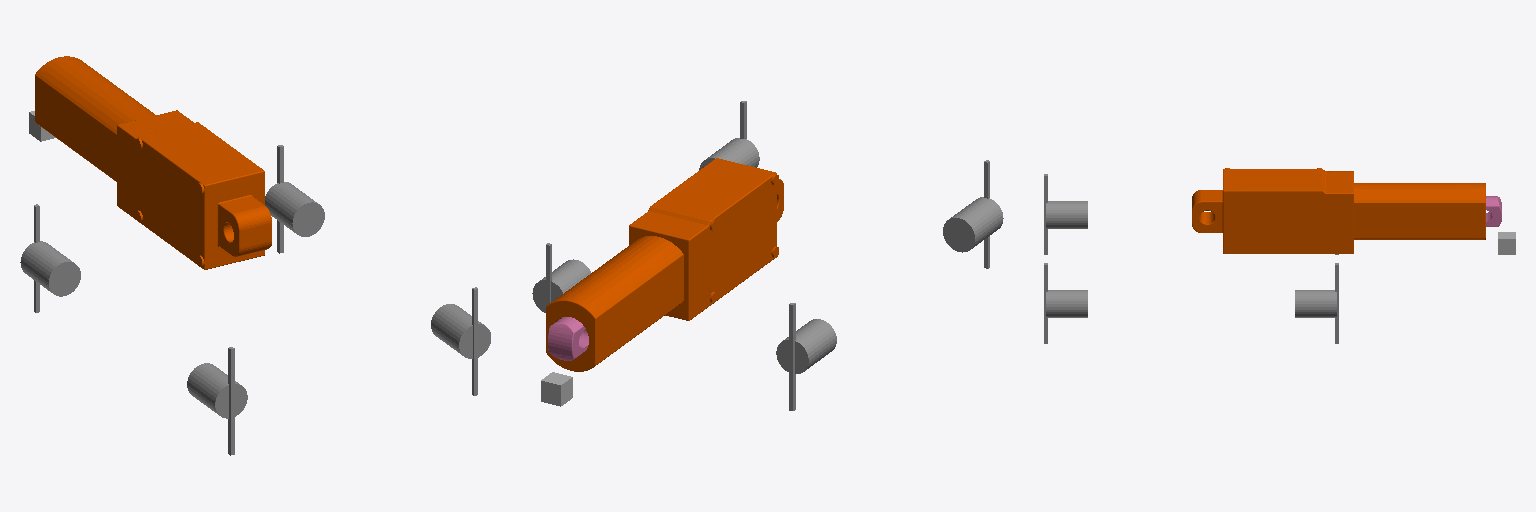
The robot description file, URDF, robot "wheeler":
<?xml version="1.0" ?>


<robot name="wheeler">

    <!-- gazebo -->

    <gazebo reference="arm">
        <material>Gazebo/Black</material>
    </gazebo>

    <gazebo reference="base">
        <material>Gazebo/Orange</material>
    </gazebo>

    <gazebo>
        <plugin name="skid_steer_drive_controller" filename="libgazebo_ros_skid_steer_drive.so">
            <updateRate>100.0</updateRate>
            <robotNamespace>/wheeler/</robotNamespace>
            
            <leftFrontJoint>chasis_fl_wheel</leftFrontJoint>
            <rightFrontJoint>chasis_fr_wheel</rightFrontJoint>
            <leftRearJoint>chasis_bl_wheel</leftRearJoint>
            <rightRearJoint>chasis_br_wheel</rightRearJoint>
            
            <wheelSeparation>0.65</wheelSeparation>
            <wheelDiameter>0.4</wheelDiameter>
            <robotBaseFrame></robotBaseFrame>
            <torque>20</torque>
            <commandTopic>cmd_vel</commandTopic>
            <odometryTopic>odom</odometryTopic>
            <broadcastTF>false</broadcastTF>
        </plugin>
    </gazebo>

    <gazebo>
        <plugin name="gazebo_ros_control" filename="libgazebo_ros_control.so">
            <!-- <robotNameSpace>/linear_actuator/</robotNameSpace> -->
            <robotSimType>gazebo_ros_control/DefaultRobotHWSim</robotSimType>
        </plugin>
    </gazebo>

    <gazebo reference="camera_base">
        <sensor type="camera" name="camera1">
          <update_rate>30.0</update_rate>
          <camera name="head">
            <horizontal_fov>1.3962634</horizontal_fov>
            <image>
              <width>800</width>
              <height>800</height>
              <format>R8G8B8</format>
            </image>
            <clip>
              <near>0.02</near>
              <far>300</far>
            </clip>
            <noise>
              <type>gaussian</type>
              <mean>0.0</mean>
              <stddev>0.007</stddev>
            </noise>
          </camera>

          <plugin name="camera_controller" filename="libgazebo_ros_camera.so">
            <alwaysOn>true</alwaysOn>
            <updateRate>0.0</updateRate>
            <cameraName>camera1</cameraName>
            <imageTopicName>image_raw</imageTopicName>
            <cameraInfoTopicName>camera_info</cameraInfoTopicName>
            <frameName>camera_base</frameName>
            <hackBaseline>0.07</hackBaseline>
            <distortionK1>0.0</distortionK1>
            <distortionK2>0.0</distortionK2>
            <distortionK3>0.0</distortionK3>
            <distortionT1>0.0</distortionT1>
            <distortionT2>0.0</distortionT2>
          </plugin>
        </sensor>
    </gazebo>

  
   

    <!-- main -->
    <link name ="chassis" >
    
        <inertial>

              <origin xyz="0 0 0.3" rpy="0 0 0" />

              <mass value="1"/>

                <inertia 
                  ixx="1.5417" 
                  ixy="0" 
                  ixz="0" 
                  iyy="3.467" 
                  iyz="0" 
                  izz="4.742"
                />
        </inertial>
        


      <visual >

          <geometry>
              
                <mesh   filename="package://robot_description/models/wheeler/STL/chassis.stl"  
                        scale="0.5 0.5 0.5"
                />
          
          </geometry>
     

      </visual>

      <collision>
    
          <geometry>
            
                <box size="1 0.65 0.2" />

          </geometry>
          
      </collision>
    </link>

    

        <link name="bl_wheel">
            <inertial>
        
                <origin xyz="0 0 0" rpy="0 0 0" />
        
                <mass value="1"/>
        
              <inertia 
                ixx="0.002526666666667" 
                ixy="0" 
                ixz="0" 
                iyy="0.002526666666667" 
                iyz="0" 
                izz="0.005"
              />
            </inertial>

            <!-- Tires -->
            <collision>
                <origin xyz="0 0.09 0" 
                        rpy="1.5707963267948966 0 0" />
                <geometry>
                    <cylinder length="0.06" radius="0.2"/>
                </geometry>
            </collision>
            
            <visual>
                <origin xyz="0 0.09 0" 
                    rpy="1.5707963267948966 0 0" />
                <geometry>
                    
                    <mesh   filename="package://robot_description/models/wheeler/STL/wheel.stl"  
                        scale="0.5 0.5 0.5"
                    />
        
                </geometry>
                <material name="Black">
                    <color rgba="0.1 0.1 0.1 1" />
                </material>
            </visual>

            <!-- Axle -->
            <collision>
                <origin xyz="0 0.03 0" 
                        rpy="1.5707963267948966 0 0" />
                <geometry>
                     <cylinder length="0.12" radius="0.04"/>
                </geometry>
            </collision>
            
            <visual>
                <origin xyz="0 0.03 0" 
                        rpy="1.5707963267948966 0 0" />
                <geometry>
                     <cylinder length="0.12" radius="0.04"/>
                </geometry>
                <material name="Grey">
                    <color rgba="0.6 0.6 0.6 1" />
                </material>
            </visual>

            <!-- Hubcap -->
            <visual>
                <origin xyz="0 0.09 0" 
                        rpy="1.5707963267948966 0 0" />
                <geometry>
                    <box size="0.01 0.25 0.01" />
                </geometry>
                <material name="Grey">
                    <color rgba="0.6 0.6 0.6 1" />
                </material>
            </visual>
        </link>


        <joint name="chasis_bl_wheel" type="continuous">
        <origin xyz="-0.3 0.325 0" 
                rpy="0 0 0" />
            <child link="bl_wheel" />
            <parent link="chassis" />
            <axis xyz="0 1 0" 
                    rpy="0 0 0" />
            <limit effort="10000" velocity="1000" />
            <joint_properties damping="1" friction="1" />
        </joint>

    

        <link name="br_wheel">
            <inertial>
        
                <origin xyz="0 0 0" rpy="0 0 0" />
        
                <mass value="1"/>
        
              <inertia 
                ixx="0.002526666666667" 
                ixy="0" 
                ixz="0" 
                iyy="0.002526666666667" 
                iyz="0" 
                izz="0.005"
              />
            </inertial>

            <!-- Tires -->
            <collision>
                <origin xyz="0 -0.09 0" 
                        rpy="1.5707963267948966 0 0" />
                <geometry>
                    <cylinder length="0.06" radius="0.2"/>
                </geometry>
            </collision>
            
            <visual>
                <origin xyz="0 -0.09 0" 
                    rpy="1.5707963267948966 0 0" />
                <geometry>
                    
                    <mesh   filename="package://robot_description/models/wheeler/STL/wheel.stl"  
                        scale="0.5 0.5 0.5"
                    />
        
                </geometry>
                <material name="Black">
                    <color rgba="0.1 0.1 0.1 1" />
                </material>
            </visual>

            <!-- Axle -->
            <collision>
                <origin xyz="0 -0.03 0" 
                        rpy="1.5707963267948966 0 0" />
                <geometry>
                     <cylinder length="0.12" radius="0.04"/>
                </geometry>
            </collision>
            
            <visual>
                <origin xyz="0 -0.03 0" 
                        rpy="1.5707963267948966 0 0" />
                <geometry>
                     <cylinder length="0.12" radius="0.04"/>
                </geometry>
                <material name="Grey">
                    <color rgba="0.6 0.6 0.6 1" />
                </material>
            </visual>

            <!-- Hubcap -->
            <visual>
                <origin xyz="0 -0.09 0" 
                        rpy="1.5707963267948966 0 0" />
                <geometry>
                    <box size="0.01 0.25 0.01" />
                </geometry>
                <material name="Grey">
                    <color rgba="0.6 0.6 0.6 1" />
                </material>
            </visual>
        </link>


        <joint name="chasis_br_wheel" type="continuous">
        <origin xyz="-0.3 -0.325 0" 
                rpy="0 0 0" />
            <child link="br_wheel" />
            <parent link="chassis" />
            <axis xyz="0 1 0" 
                    rpy="0 0 0" />
            <limit effort="10000" velocity="1000" />
            <joint_properties damping="1" friction="1" />
        </joint>

    

        <link name="fl_wheel">
            <inertial>
        
                <origin xyz="0 0 0" rpy="0 0 0" />
        
                <mass value="1"/>
        
              <inertia 
                ixx="0.002526666666667" 
                ixy="0" 
                ixz="0" 
                iyy="0.002526666666667" 
                iyz="0" 
                izz="0.005"
              />
            </inertial>

            <!-- Tires -->
            <collision>
                <origin xyz="0 0.09 0" 
                        rpy="1.5707963267948966 0 0" />
                <geometry>
                    <cylinder length="0.06" radius="0.2"/>
                </geometry>
            </collision>
            
            <visual>
                <origin xyz="0 0.09 0" 
                    rpy="1.5707963267948966 0 0" />
                <geometry>
                    
                    <mesh   filename="package://robot_description/models/wheeler/STL/wheel.stl"  
                        scale="0.5 0.5 0.5"
                    />
        
                </geometry>
                <material name="Black">
                    <color rgba="0.1 0.1 0.1 1" />
                </material>
            </visual>

            <!-- Axle -->
            <collision>
                <origin xyz="0 0.03 0" 
                        rpy="1.5707963267948966 0 0" />
                <geometry>
                     <cylinder length="0.12" radius="0.04"/>
                </geometry>
            </collision>
            
            <visual>
                <origin xyz="0 0.03 0" 
                        rpy="1.5707963267948966 0 0" />
                <geometry>
                     <cylinder length="0.12" radius="0.04"/>
                </geometry>
                <material name="Grey">
                    <color rgba="0.6 0.6 0.6 1" />
                </material>
            </visual>

            <!-- Hubcap -->
            <visual>
                <origin xyz="0 0.09 0" 
                        rpy="1.5707963267948966 0 0" />
                <geometry>
                    <box size="0.01 0.25 0.01" />
                </geometry>
                <material name="Grey">
                    <color rgba="0.6 0.6 0.6 1" />
                </material>
            </visual>
        </link>


        <joint name="chasis_fl_wheel" type="continuous">
        <origin xyz="0.3 0.325 0" 
                rpy="0 0 0" />
            <child link="fl_wheel" />
            <parent link="chassis" />
            <axis xyz="0 1 0" 
                    rpy="0 0 0" />
            <limit effort="10000" velocity="1000" />
            <joint_properties damping="1" friction="1" />
        </joint>

    

        <link name="fr_wheel">
            <inertial>
        
                <origin xyz="0 0 0" rpy="0 0 0" />
        
                <mass value="1"/>
        
              <inertia 
                ixx="0.002526666666667" 
                ixy="0" 
                ixz="0" 
                iyy="0.002526666666667" 
                iyz="0" 
                izz="0.005"
              />
            </inertial>

            <!-- Tires -->
            <collision>
                <origin xyz="0 -0.09 0" 
                        rpy="1.5707963267948966 0 0" />
                <geometry>
                    <cylinder length="0.06" radius="0.2"/>
                </geometry>
            </collision>
            
            <visual>
                <origin xyz="0 -0.09 0" 
                    rpy="1.5707963267948966 0 0" />
                <geometry>
                    
                    <mesh   filename="package://robot_description/models/wheeler/STL/wheel.stl"  
                        scale="0.5 0.5 0.5"
                    />
        
                </geometry>
                <material name="Black">
                    <color rgba="0.1 0.1 0.1 1" />
                </material>
            </visual>

            <!-- Axle -->
            <collision>
                <origin xyz="0 -0.03 0" 
                        rpy="1.5707963267948966 0 0" />
                <geometry>
                     <cylinder length="0.12" radius="0.04"/>
                </geometry>
            </collision>
            
            <visual>
                <origin xyz="0 -0.03 0" 
                        rpy="1.5707963267948966 0 0" />
                <geometry>
                     <cylinder length="0.12" radius="0.04"/>
                </geometry>
                <material name="Grey">
                    <color rgba="0.6 0.6 0.6 1" />
                </material>
            </visual>

            <!-- Hubcap -->
            <visual>
                <origin xyz="0 -0.09 0" 
                        rpy="1.5707963267948966 0 0" />
                <geometry>
                    <box size="0.01 0.25 0.01" />
                </geometry>
                <material name="Grey">
                    <color rgba="0.6 0.6 0.6 1" />
                </material>
            </visual>
        </link>


        <joint name="chasis_fr_wheel" type="continuous">
        <origin xyz="0.3 -0.325 0" 
                rpy="0 0 0" />
            <child link="fr_wheel" />
            <parent link="chassis" />
            <axis xyz="0 1 0" 
                    rpy="0 0 0" />
            <limit effort="10000" velocity="1000" />
            <joint_properties damping="1" friction="1" />
        </joint>

    


     
    <link name ="base" >
    
      <inertial>
      
          <origin xyz="0 0 0.09" rpy="0 0 0" />
         
          <mass value="1.8"/>
      
            <inertia 
              ixx="0.108" 
              ixy="0" 
              ixz="0" 
              iyy="0.108" 
              iyz="0" 
              izz="0.054"
            />
        </inertial>
        


      <visual >

          <geometry>
              <mesh
         
                  filename="package://robot_description/models/poker/STL/base.stl"
                  scale = "0.01 0.01 0.01"
                  
              />
          
          </geometry>
     
        
      
      </visual>
      <collision name='collision_base_link'>
    
          <geometry>
            <mesh

                filename="package://robot_description/models/poker/STL/base.stl"
                scale = "0.01 0.01 0.01"
            />
       
          </geometry>
          
      </collision>
    </link>

    <joint name="chassis_base" type="fixed">
        <origin rpy="0 0 0" xyz="0 0 0.15" />
        
        <parent link="chassis"/>
        <child link ="base"/>
        
    </joint> 

    <link name ="arm" >
 
        <inertial>
        <origin xyz="0 0 0.09" rpy="0 0 0" />
            <mass value="1.8"/>
        <inertia 
            ixx="0.108" 
            ixy="0" 
            ixz="0" 
            iyy="0.108" 
            iyz="0" 
            izz="0.054"
        />
        </inertial>

        <visual>

            <geometry>
                <mesh
                    filename="package://robot_description/models/poker/STL/arm.stl"
                    scale = "0.01 0.01 0.01"
                />
           
            </geometry>
      
           
      
        </visual>
        <collision name='collision_arm_link'>
    
            <geometry>
                <mesh
                        filename="package://robot_description/models/poker/STL/arm.stl"
                        scale = "0.01 0.01 0.01"
                />
            
            </geometry>
        </collision>
    </link>

    <joint name="arm_base" type="prismatic">
        <origin rpy="0 0 0" xyz="0 0.3 0" />
        
        <parent link="base"/>
        <child link ="arm"/>
        
        <axis xyz="0 1 0"/>
        <limit  effort="10000" 
                lower="0" 
                upper="0.5" 
                velocity="2" />
             
        />
        <dynamics damping="0.1"/>
    </joint> 

    <link name="camera_base">
        <inertial>
          <mass value="1.0e-05" />
          <origin xyz="0 0 0" rpy="0 0 0"/>
          <inertia ixx="1.0e-06" ixy="0" ixz="0" iyy="1.0e-06" iyz="0" izz="1.0e-06" />
        </inertial>

        <visual>
        
            <geometry>
                <box size="0.05 0.05 0.05"/>
            </geometry>

        </visual>

        <collision>
        
            <geometry>
                <box size="0.05 0.05 0.05"/>
            </geometry>
        </collision>

        
    </link>  

    <joint name="camera_base_arm" type="fixed">
        <axis xyz="0 1 0" />
        <origin xyz="0 0.6 -0.1" rpy="0 0 1.57"/>
        <parent link="arm"/>
        <child link="camera_base"/>
    </joint>


  
    <transmission name="linear_transmission">
        <type>transmission_interface/SimpleTransmission</type>
        <joint name="arm_base">
          <hardwareInterface>PositionJointInterface</hardwareInterface>
        </joint>  
        <actuator name="linear_motor">
          <hardwareInterface>PositionJointInterface</hardwareInterface>
          <mechanicalReduction>1</mechanicalReduction>
        </actuator>
    </transmission>



 
    

  


  

 
 


</robot>

--- What the picture shows (computed from the rendered views, not written in the file) ---
3 views of the same robot in one strip: view 1: azimuth 30°, elevation 25°; view 2: azimuth 150°, elevation 25°; view 3: azimuth 270°, elevation 25° (orthographic).
Robot: wheeler — 8 links, 7 joints (4 continuous, 1 prismatic, 2 fixed); root link chassis; default pose: every joint at zero.
Links seen in each view (by area): view 1: base, br_wheel, fl_wheel, bl_wheel, fr_wheel; view 2: base, bl_wheel, br_wheel, fl_wheel, arm, fr_wheel, camera_base; view 3: base, br_wheel, fl_wheel, fr_wheel.
Boxes of the visible links, x1,y1,x2,y2 form: base: (35,56,271,269); br_wheel: (187,347,247,455); fl_wheel: (265,145,324,253); bl_wheel: (20,204,80,312); fr_wheel: (431,287,490,395); base: (546,158,783,371); bl_wheel: (776,303,836,410); br_wheel: (943,160,1003,268); fl_wheel: (532,243,590,312); arm: (548,317,588,360); fr_wheel: (699,101,759,169); camera_base: (541,372,572,406); base: (1192,168,1485,253); br_wheel: (1044,174,1087,254); fl_wheel: (1295,263,1338,343); fr_wheel: (1044,263,1087,343).
Size in the robot's own frame: 0.68 by 1.34 by 0.3754 metres.
2 mesh visuals loaded from 4 distinct referenced files (2 binary STL); not drawn: 5 (reference not matched to a file when rendering).